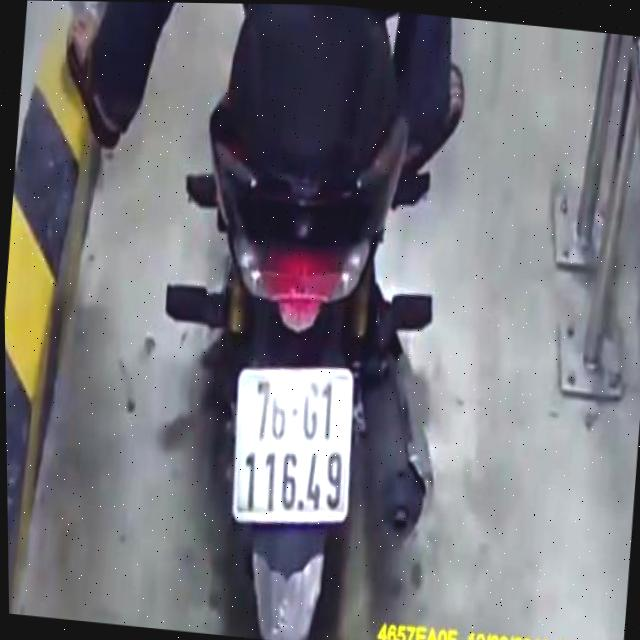motorcycle: (132, 2, 488, 640)
plate: (222, 354, 368, 537)
